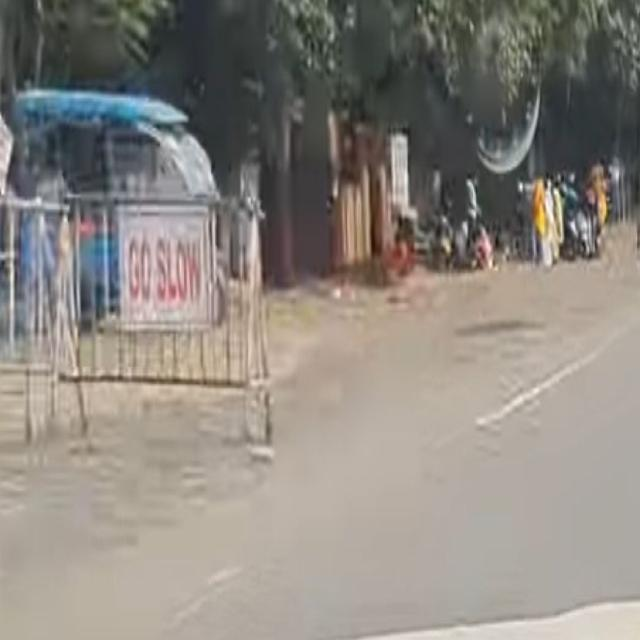go_slow: (107, 199, 226, 340)
